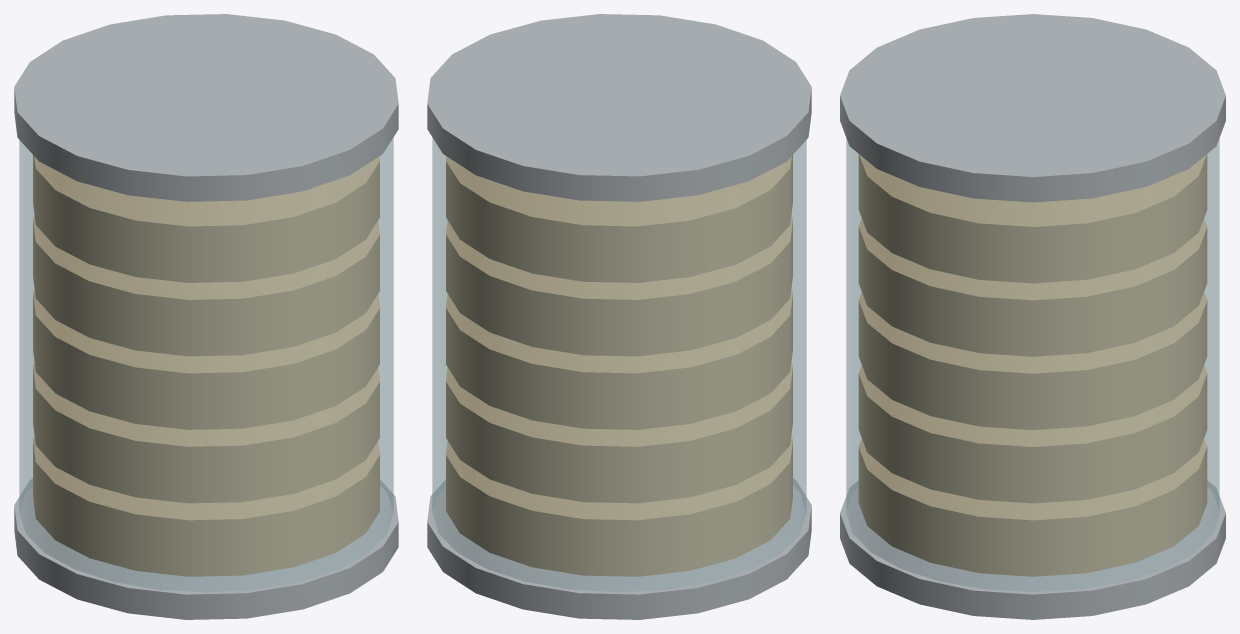
The model's file is catalogue-catalyst-bed.glb.
3 renders of one model, left to right at view 1: azimuth 30°, elevation 25°; view 2: azimuth 150°, elevation 25°; view 3: azimuth 270°, elevation 25°, orthographic.
Size of the model in its own units: 0.62 by 0.785 by 0.62.
